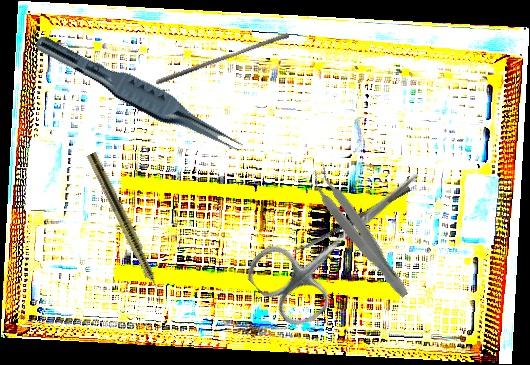Handpiece: (84, 151, 169, 306)
Iris Scissors: (240, 139, 444, 335)
Pusher: (155, 27, 290, 91)
Surgical Spoon: (293, 185, 412, 255)
Tissue Forceps: (28, 32, 250, 159), (303, 162, 419, 303)
